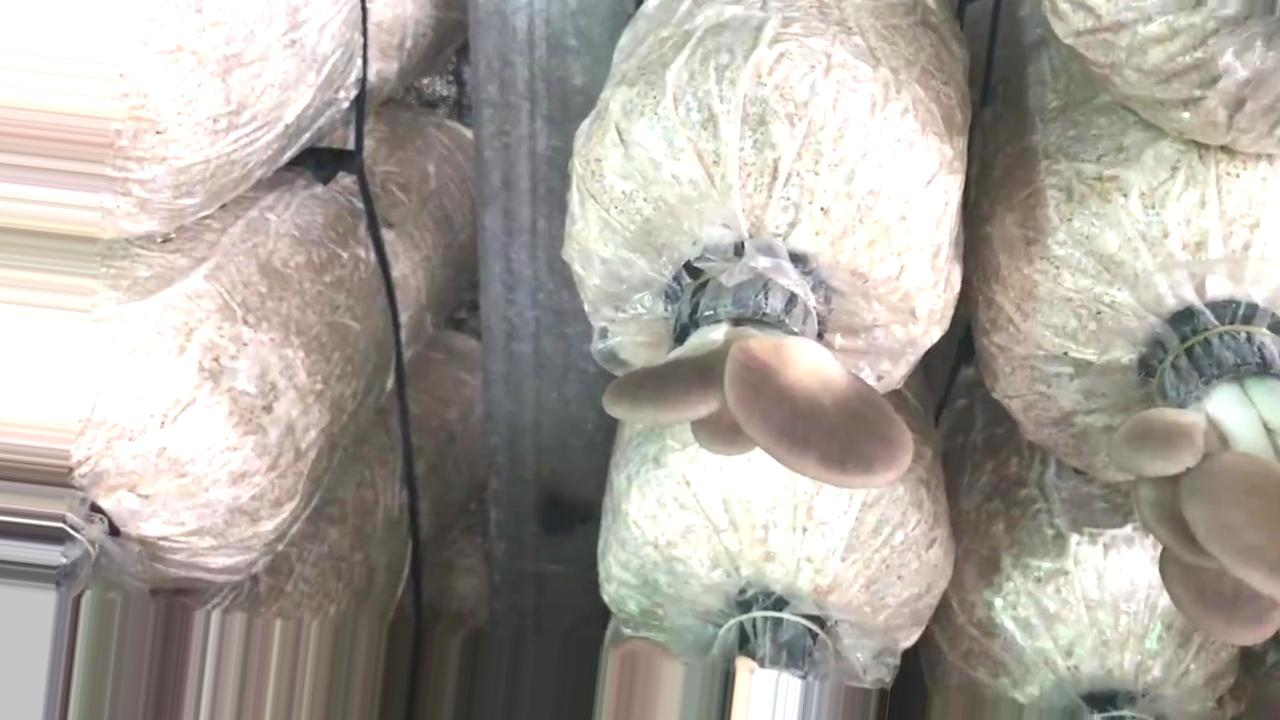nam: (602, 257, 911, 489), (1109, 306, 1280, 650)
